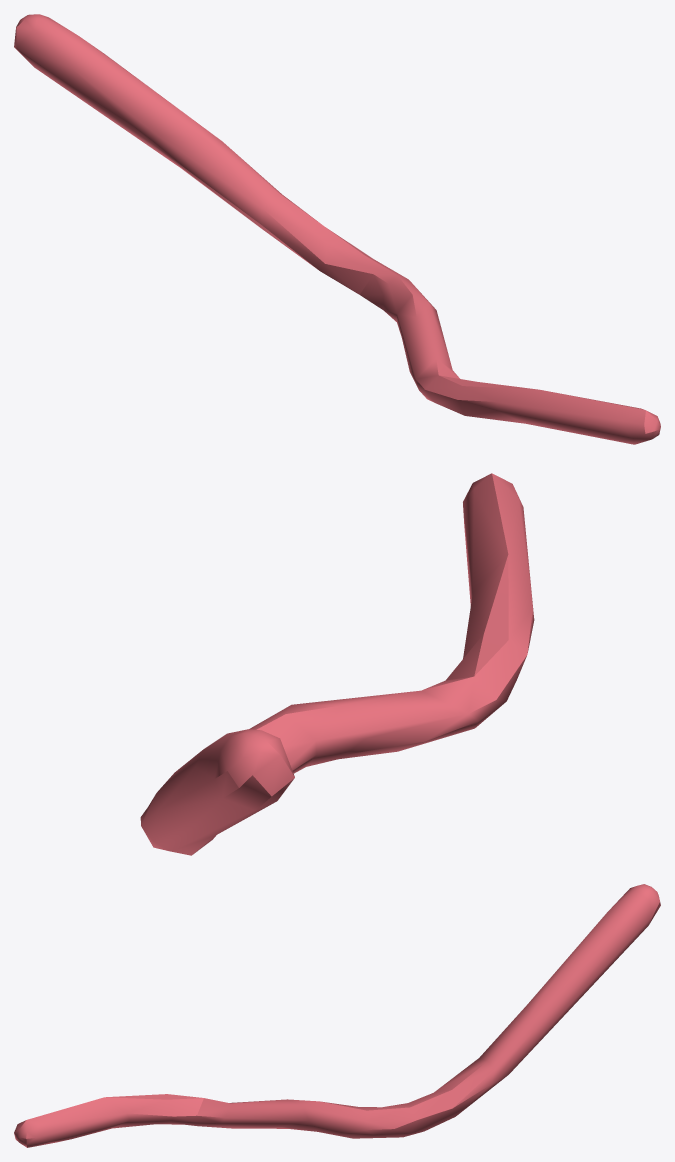
File: fma4713_fj2684.glb
The picture shows the model from 3 angles, top to bottom: view 1: azimuth 30°, elevation 25°; view 2: azimuth 150°, elevation 25°; view 3: azimuth 270°, elevation 25°; orthographic projection. The views are drawn at different scales.
Visible parts, largest first — view 1: FMA4713_FJ2684; view 2: FMA4713_FJ2684; view 3: FMA4713_FJ2684.
Part boxes in pixels (x1,y1,x2,y2): FMA4713_FJ2684: (14, 14, 660, 444); FMA4713_FJ2684: (140, 473, 534, 855); FMA4713_FJ2684: (14, 884, 660, 1147).
Size of the model in its own units: 0.00711 by 0.00568 by 0.0182.
